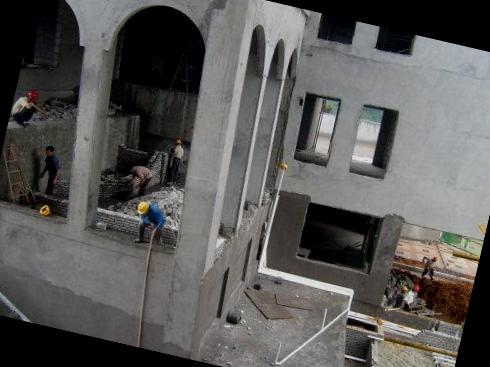no_helmet: (121, 158, 138, 177), (40, 142, 57, 160)
